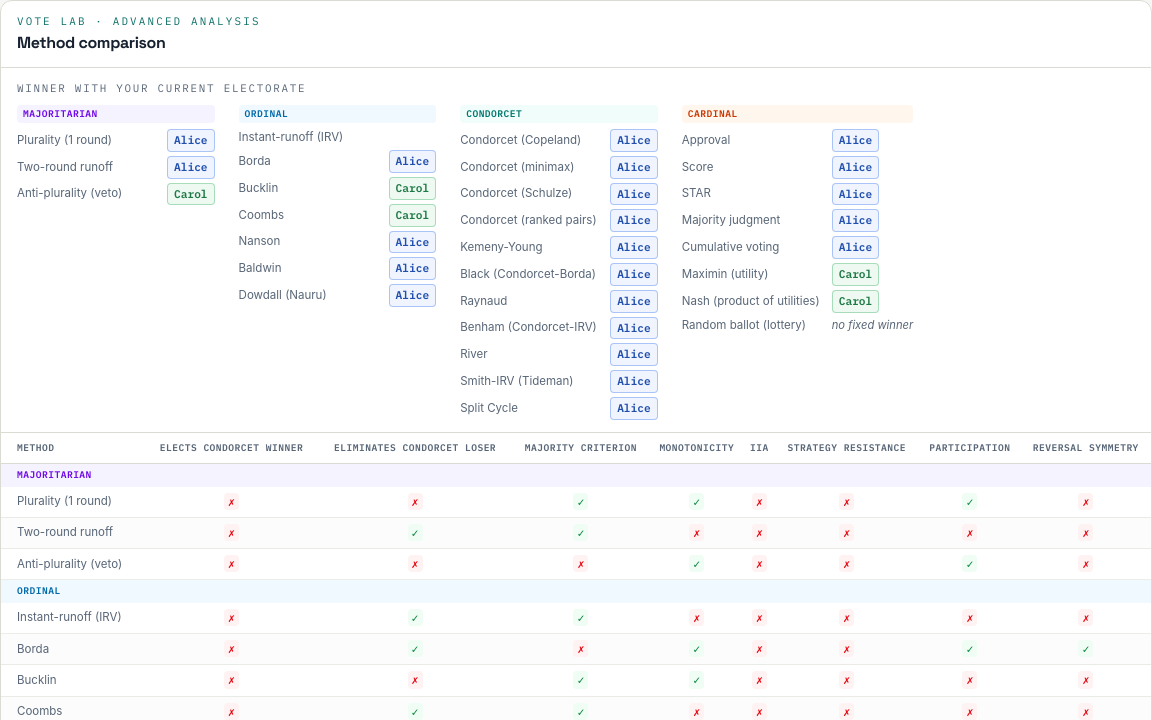
Test case: MethodsMatrix › what a cell rests on › a second click on the picked cell closes it
Click the button with test id "matrix-cell-plurality-iia" at (759, 501), box [752, 493, 767, 510]
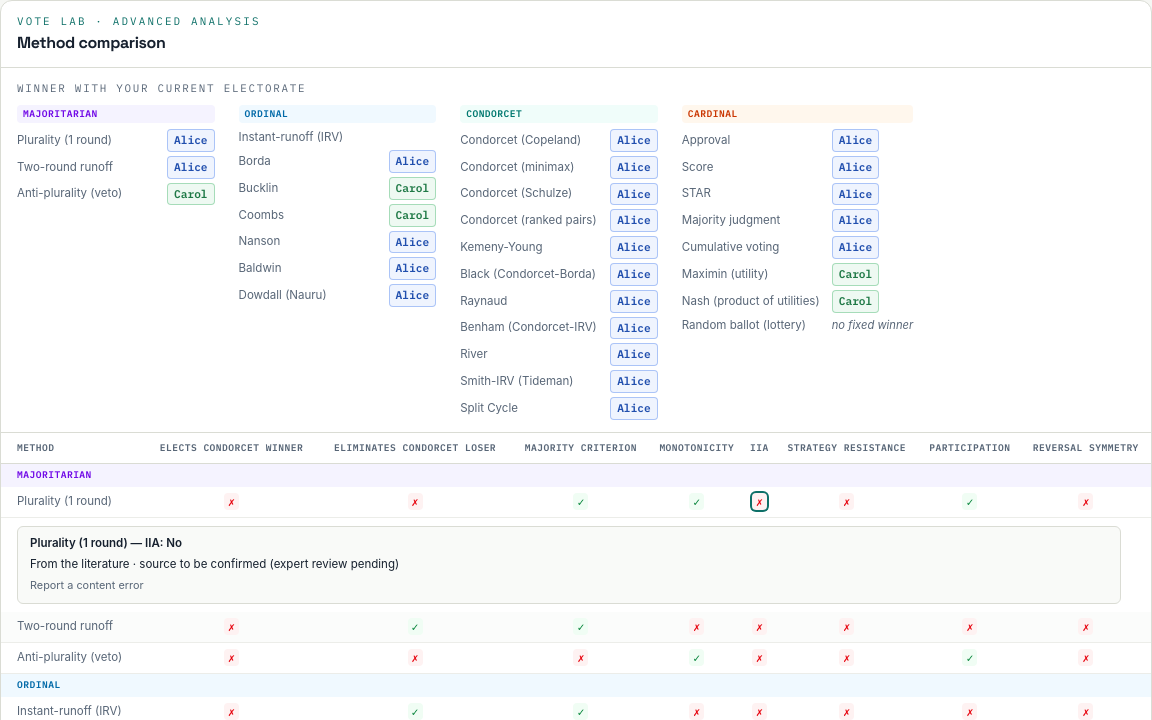
Click the button with test id "matrix-cell-plurality-iia" at (759, 501), box [752, 493, 767, 510]
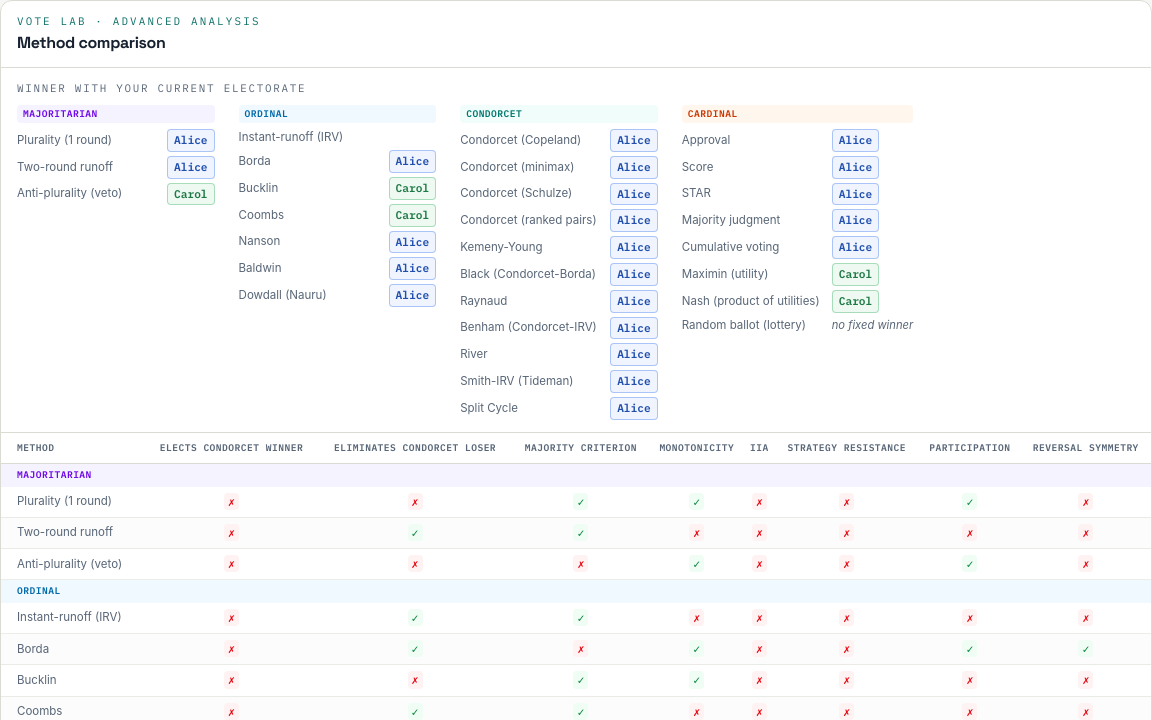
Check: the element with test id "matrix-cell-source" is gone
